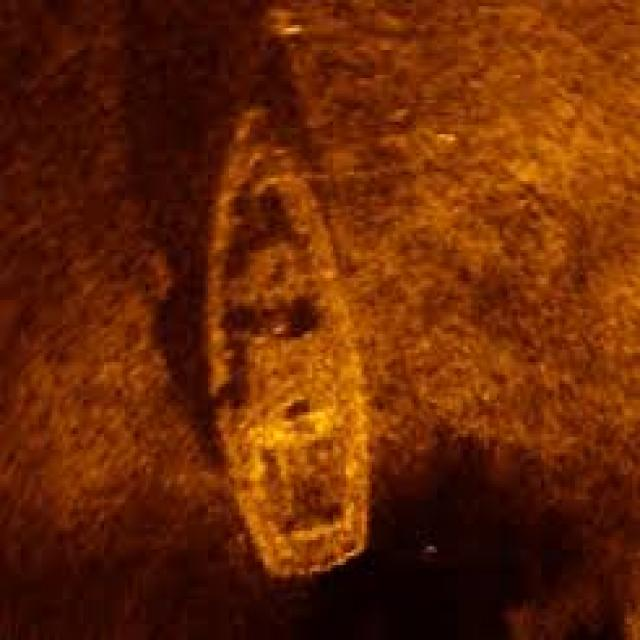ship: (206, 100, 377, 577)
